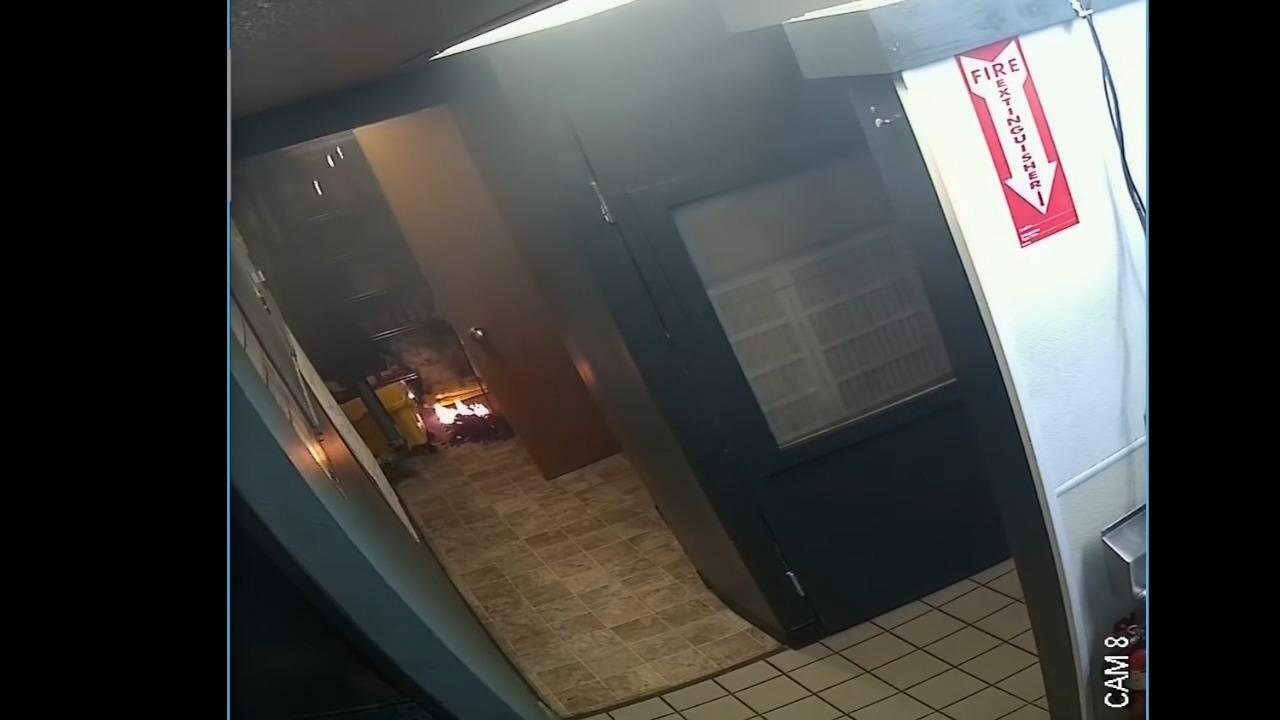fire: (433, 398, 489, 424)
